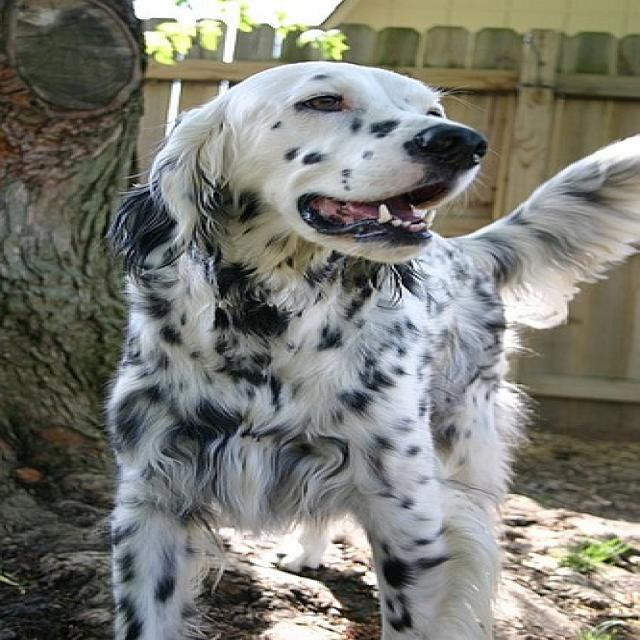dog-english_setter: (88, 52, 636, 637)
